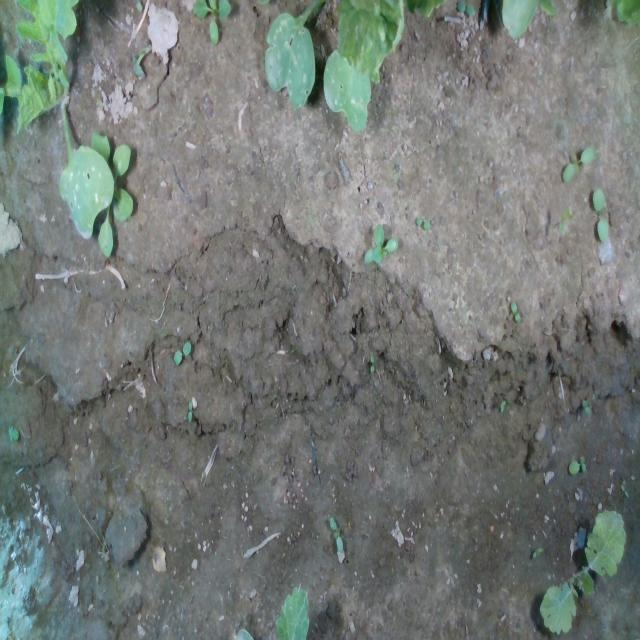weed: (560, 144, 596, 182), (591, 184, 609, 244), (328, 514, 344, 556), (171, 339, 191, 368), (566, 454, 587, 475), (509, 295, 521, 326), (414, 215, 432, 231), (581, 394, 593, 418), (367, 353, 375, 379), (619, 481, 629, 498), (531, 546, 543, 560), (186, 398, 192, 423)
